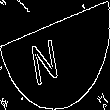N_N: (38, 25, 72, 85)
